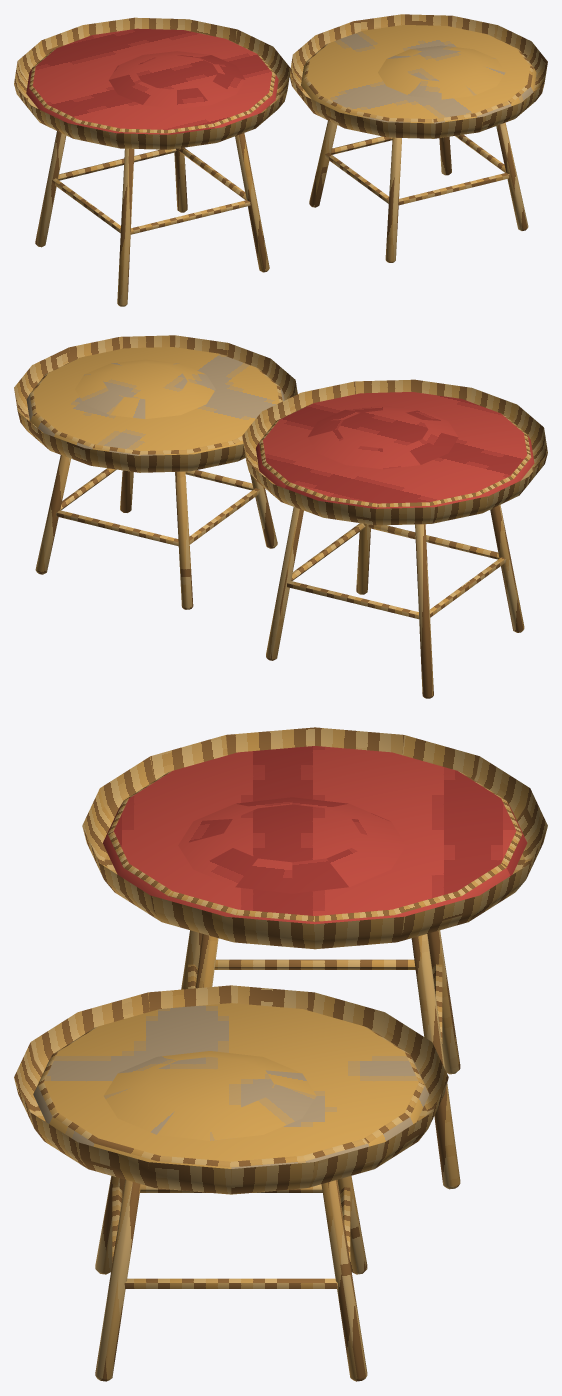
File: cn_drying_tray_3.glb
3 renders of one model, top to bottom at view 1: azimuth 30°, elevation 25°; view 2: azimuth 150°, elevation 25°; view 3: azimuth 270°, elevation 25°, orthographic. The views are drawn at different scales.
Visible parts, largest first — view 1: cn_drying_tray_4; view 2: cn_drying_tray_4; view 3: cn_drying_tray_4.
Part boxes in pixels (box(x1,y1,x2,y2)): cn_drying_tray_4: box(14, 14, 547, 306); cn_drying_tray_4: box(14, 335, 547, 698); cn_drying_tray_4: box(14, 727, 547, 1381).
Bounding box in the file's own units: 2.4 × 0.9031 × 1.4.
3 materials, 3 textured.
